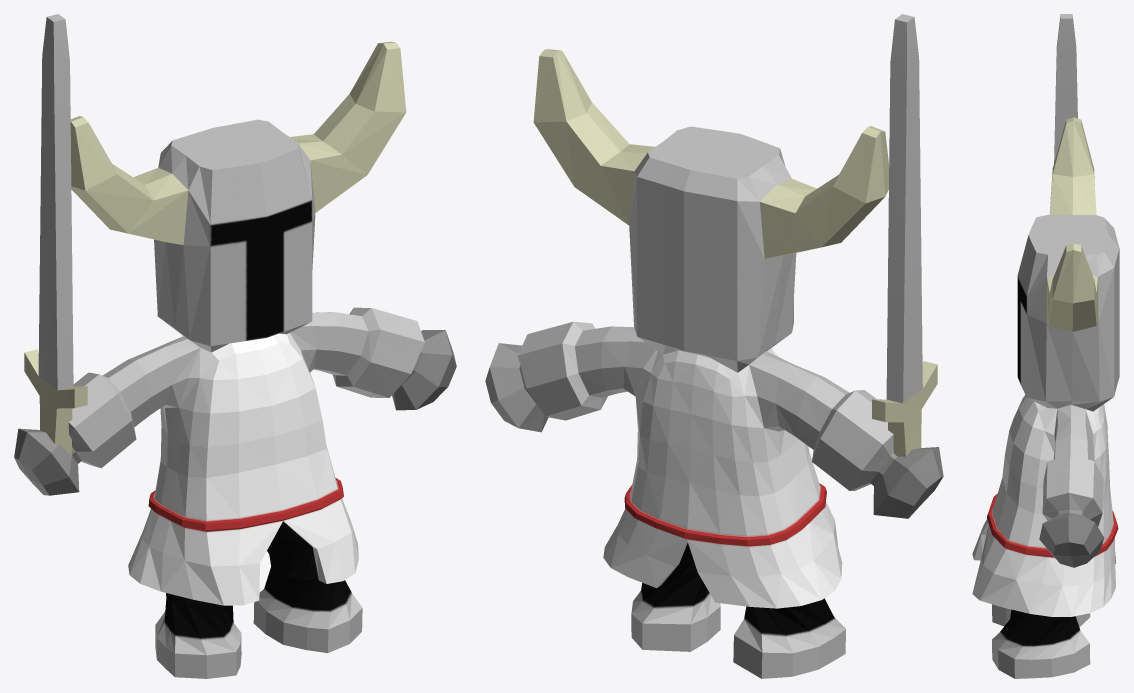
File: knight.FBX
3 renders of one model, left to right at view 1: azimuth 30°, elevation 25°; view 2: azimuth 150°, elevation 25°; view 3: azimuth 270°, elevation 25°, orthographic. The views are drawn at different scales.
Parts seen in each view (by area): view 1: knight, sword; view 2: knight, sword; view 3: knight, sword.
Part boxes in pixels (x1,y1,x2,y2): knight: (14, 41, 456, 678); sword: (24, 14, 87, 455); knight: (485, 49, 943, 678); sword: (872, 14, 937, 456); knight: (972, 117, 1119, 678); sword: (1054, 14, 1077, 162).
Size of the model in its own units: 161 by 232 by 56.35.
2 materials, 2 textured.
